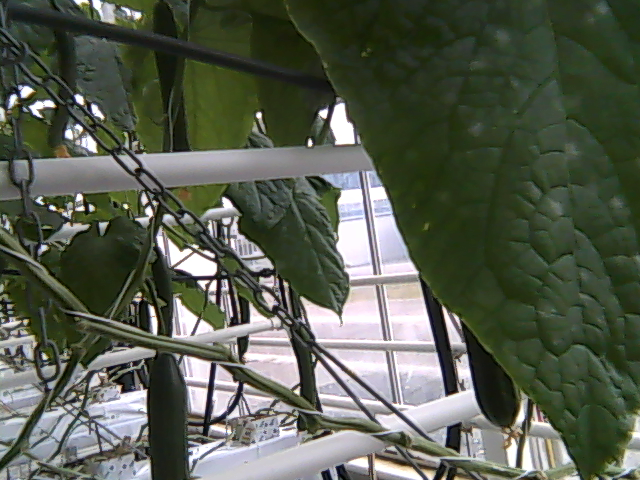concombre: (460, 318, 524, 448)
